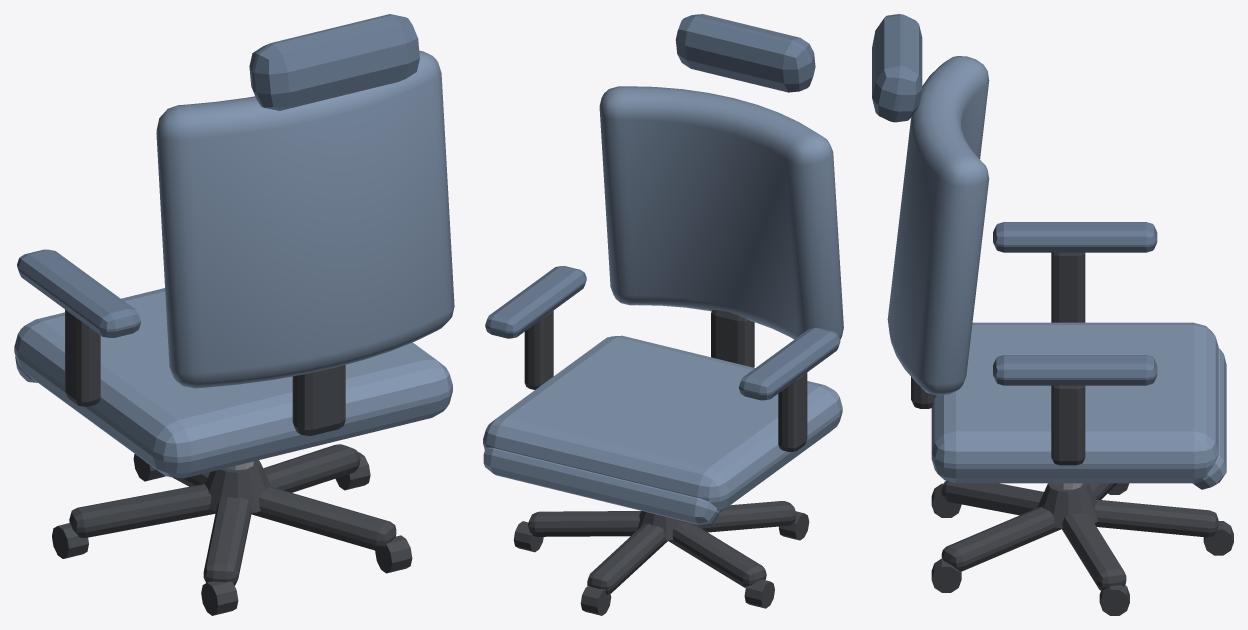
Rendered from chair_b.glb.
3 renders of one model, left to right at view 1: azimuth 30°, elevation 25°; view 2: azimuth 150°, elevation 25°; view 3: azimuth 270°, elevation 25°, orthographic. The views are drawn at different scales.
Visible parts, largest first — view 1: ChairBack, Chair; view 2: Chair, ChairBack; view 3: Chair, ChairBack.
Part boxes in pixels (<box>): ChairBack: <box>156,50,454,388</box>; Chair: <box>14,14,452,615</box>; Chair: <box>483,14,842,615</box>; ChairBack: <box>599,86,843,339</box>; Chair: <box>872,14,1233,615</box>; ChairBack: <box>887,56,989,395</box>.
Size of the model in its own units: 0.52 by 0.8238 by 0.5288.
